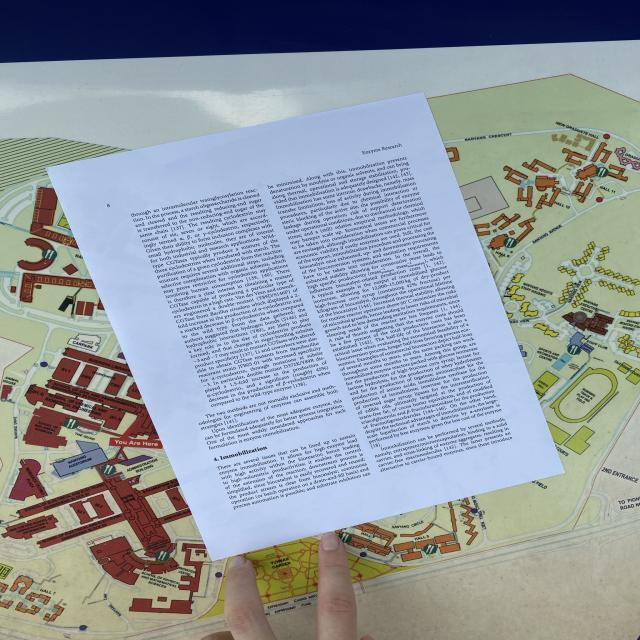document: (48, 95, 563, 559)
